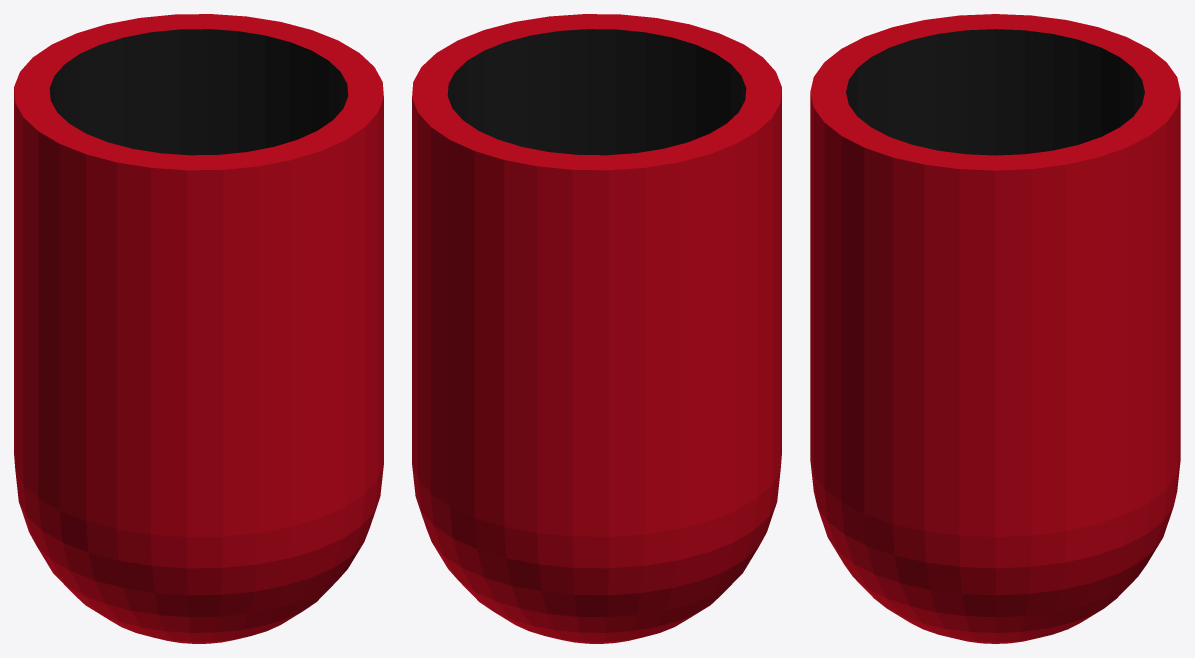
The model's file is Canon.fbx.
The picture shows the model from 3 angles, left to right: view 1: azimuth 30°, elevation 25°; view 2: azimuth 150°, elevation 25°; view 3: azimuth 270°, elevation 25°; orthographic projection.
Parts seen in each view (by area): view 1: Sphere; view 2: Sphere; view 3: Sphere.
Part boxes in pixels (x1,y1,x2,y2): Sphere: [14, 14, 383, 643]; Sphere: [412, 14, 781, 643]; Sphere: [810, 14, 1180, 643].
Bounding box in the file's own units: 200 × 318 × 200.
